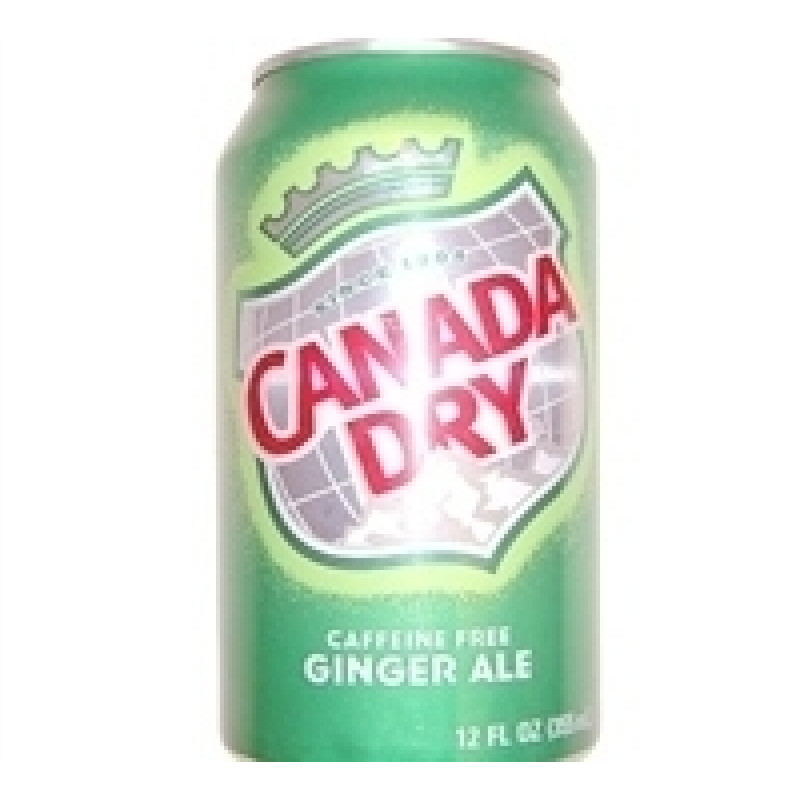Lata: (205, 22, 606, 775)
